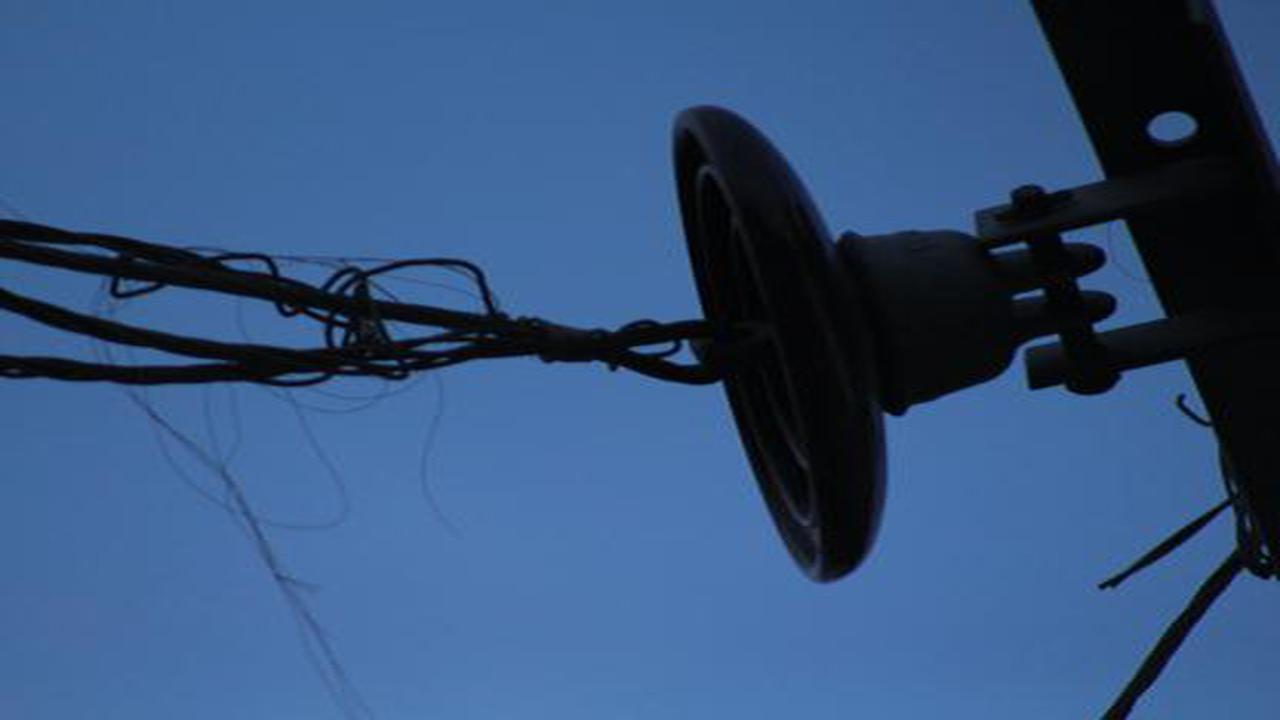insulator_disc: (666, 91, 1045, 595)
